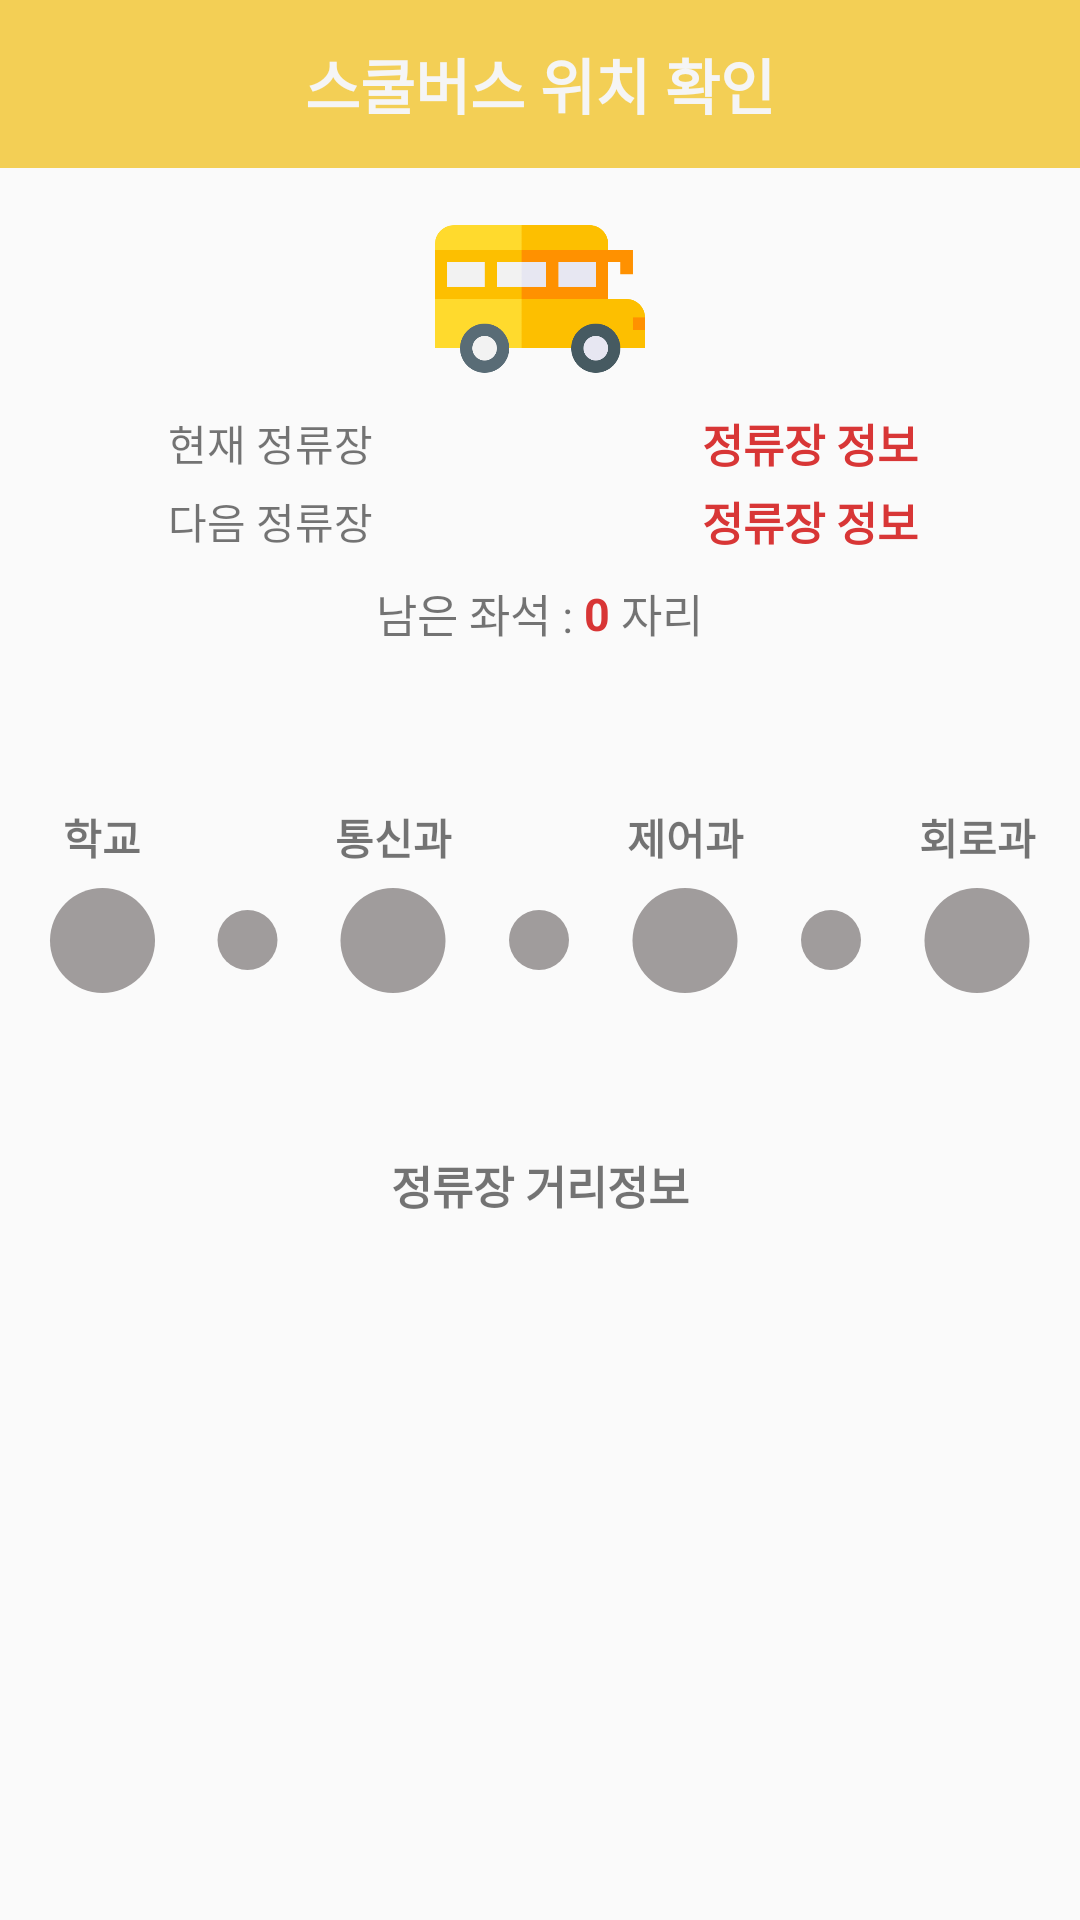

Locate icon controls on the screen. Image size 1080×1920, boxes as bbox=[x1, y1, x2, y2].
school bus: bbox=[435, 225, 645, 373]
